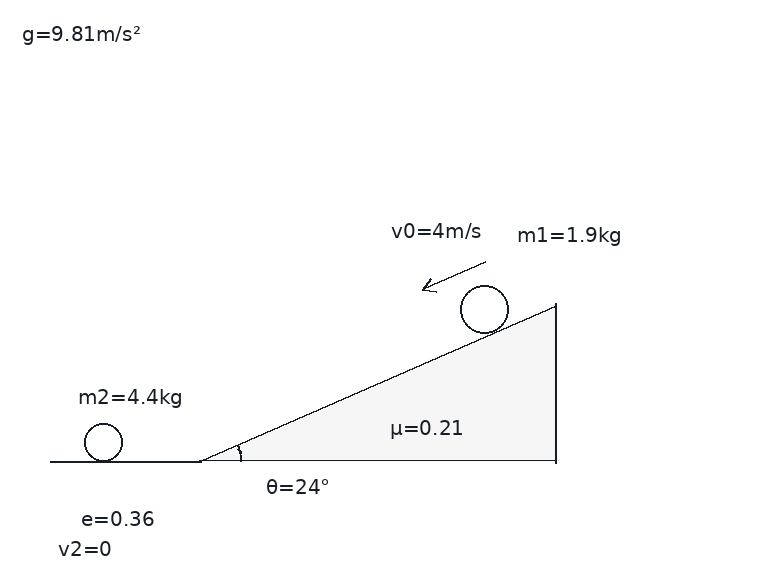ball: (458, 283, 510, 335), (82, 421, 124, 463)
ramp: (199, 301, 557, 463)
